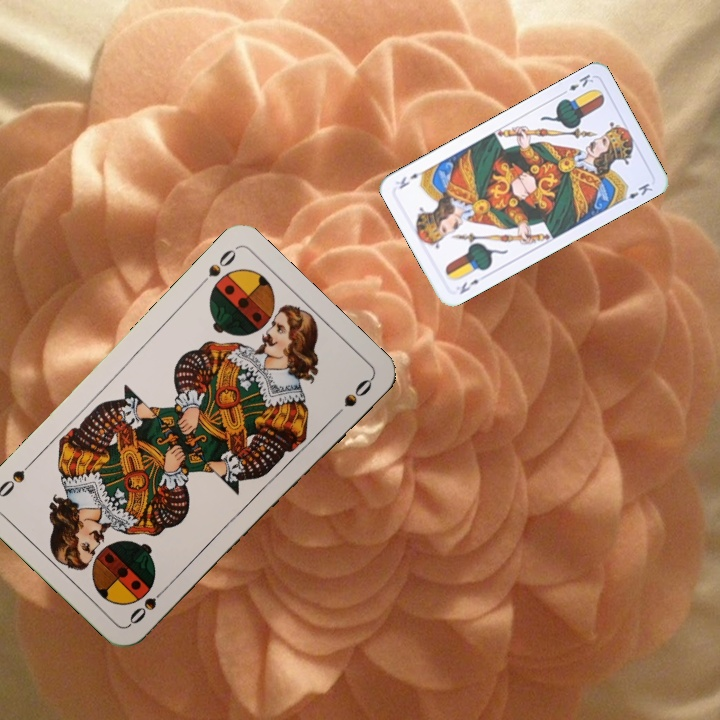EK: (557, 70, 596, 98), (455, 275, 482, 297)
SO: (125, 581, 172, 627), (194, 245, 239, 291)
